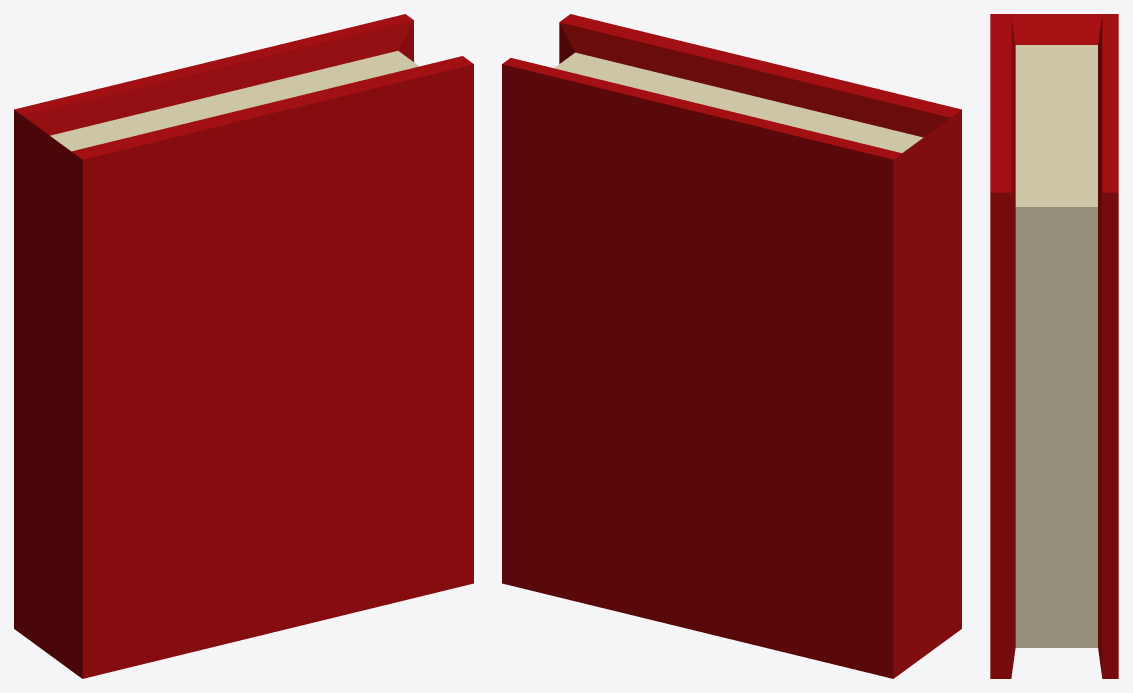
The model's file is book red fbx.fbx.
3 renders of one model, left to right at view 1: azimuth 30°, elevation 25°; view 2: azimuth 150°, elevation 25°; view 3: azimuth 270°, elevation 25°, orthographic. The views are drawn at different scales.
Visible parts, largest first — view 1: Cube; view 2: Cube; view 3: Cube.
Part boxes in pixels (box(x1,y1,x2,y2)): Cube: box(14, 14, 473, 678); Cube: box(502, 14, 961, 678); Cube: box(990, 14, 1118, 678).
Size of the model in its own units: 200 by 254 by 60.64.
